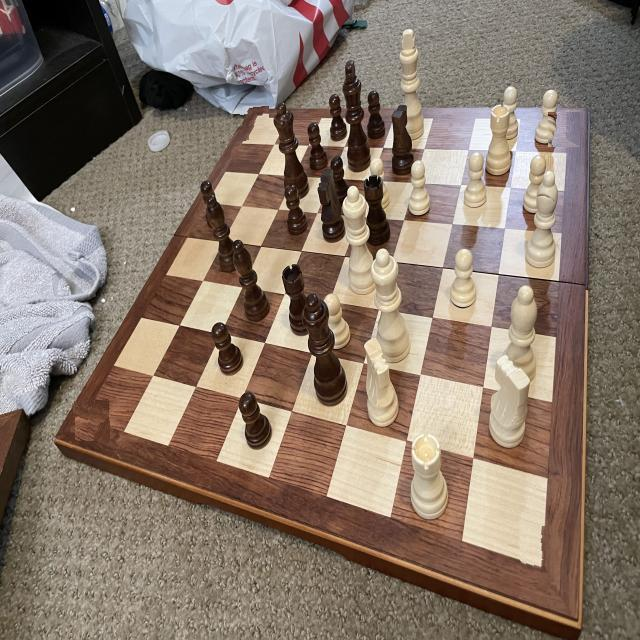chess-table-corners: (520, 526, 558, 585), (73, 400, 110, 441), (548, 112, 580, 147), (238, 106, 269, 141)
